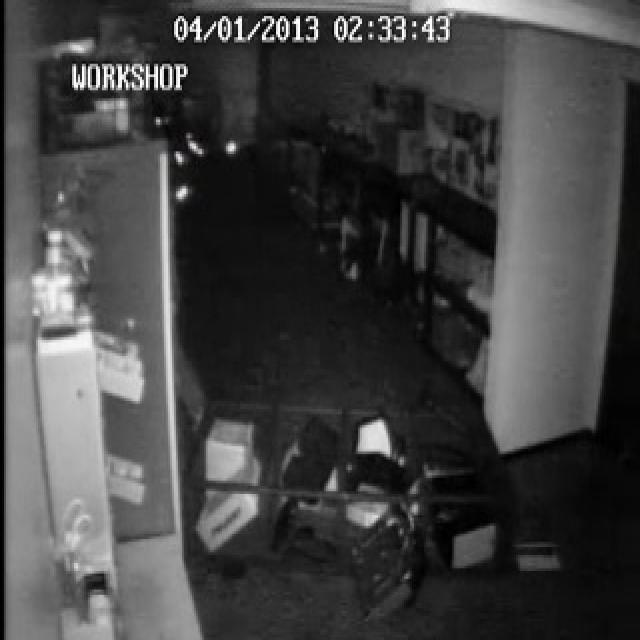burglary: (180, 394, 527, 596)
